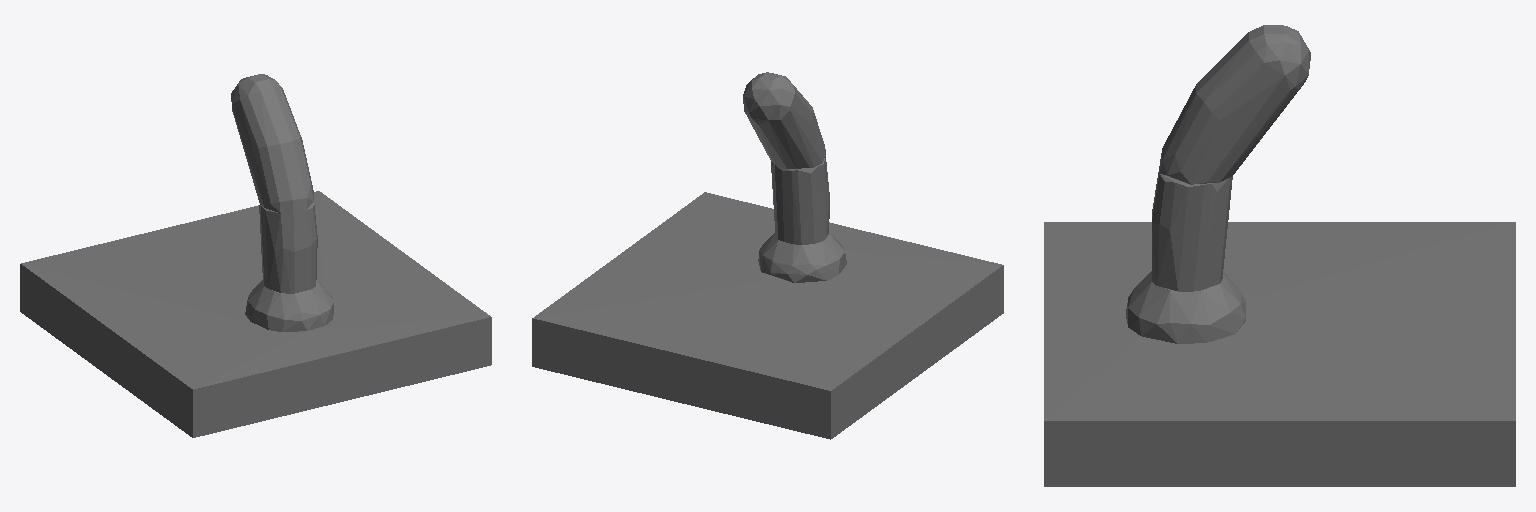
URDF robot description (base.urdf):
<?xml version='1.0' encoding='utf-8'?>
<robot name="base.urdf">
  <link name="baseLink">
    <contact>
      <lateral_friction value="0.5" />
      <rolling_friction value="0.0" />
      <contact_cfm value="0.0" />
      <contact_erp value="1.0" />
    </contact>
    <inertial>
      <origin rpy="0 0 0" xyz="5.8178873521237664e-06 0.009549607847986126 0.01263554369533256" />
       <mass value="0.0" />
       <inertia ixx="1e-3" ixy="0" ixz="0" iyy="1e-3" iyz="0" izz="1e-3" />
    </inertial>
    <visual>
      <origin rpy="0 0 0" xyz="0 0 0" />
      <geometry>
        <mesh filename="base.obj" scale="0.5 0.5 0.5" />
      </geometry>
       <material name="gray">
        <color rgba="0.5 0.5 0.5 1" />
      </material>
    </visual>
    <collision>
      <geometry>
        <mesh filename="base.obj" scale="0.5 0.5 0.5" />
      </geometry>
    </collision>
  </link>
</robot>

--- What the picture shows (computed from the rendered views, not written in the file) ---
3 views of the same robot in one strip: view 1: azimuth 30°, elevation 25°; view 2: azimuth 150°, elevation 25°; view 3: azimuth 270°, elevation 25° (orthographic).
Model base.urdf with 1 links and 0 joints (none), rooted at baseLink, posed every joint at zero.
Visible links, largest first — view 1: baseLink; view 2: baseLink; view 3: baseLink.
Boxes of the visible links, x1,y1,x2,y2 form: baseLink: [20, 74, 491, 437]; baseLink: [532, 72, 1003, 439]; baseLink: [1044, 25, 1515, 486].
Bounding box of the posed robot: 0.0503 × 0.0503 × 0.0422 m (x, y, z).
1 mesh visuals loaded from 1 distinct referenced files (1 OBJ).